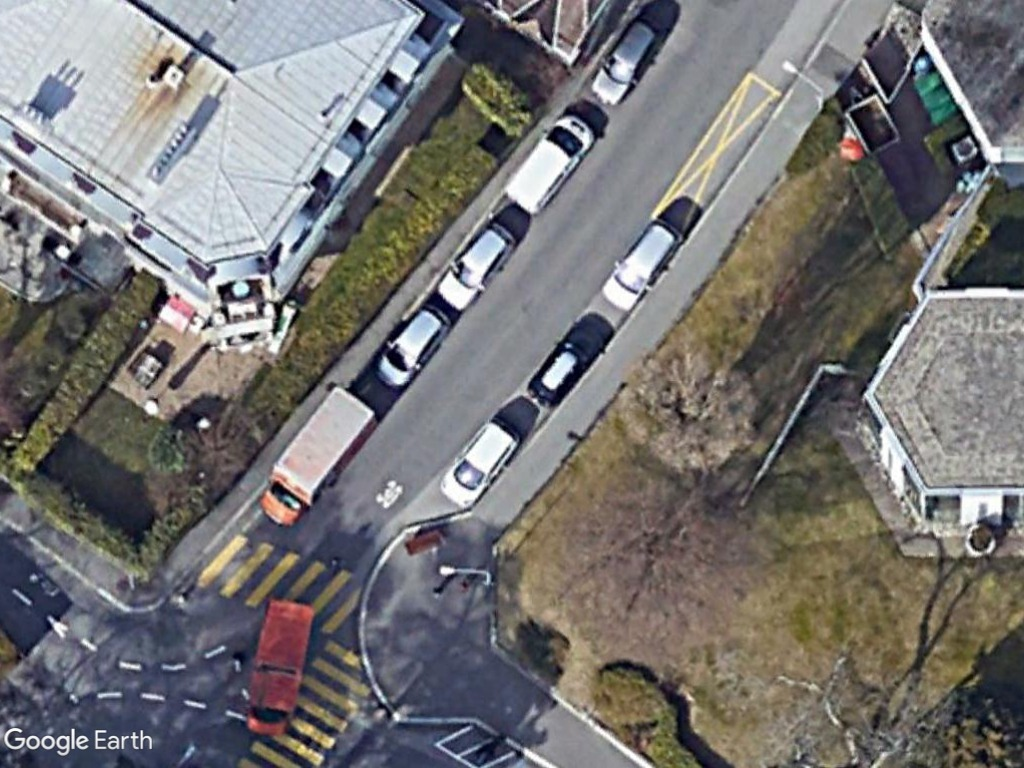car: (596, 217, 684, 311), (437, 416, 521, 511), (435, 221, 516, 313), (371, 305, 452, 388), (587, 18, 661, 107)
truck: (256, 387, 378, 527), (243, 596, 319, 736)
van: (502, 114, 598, 219)
